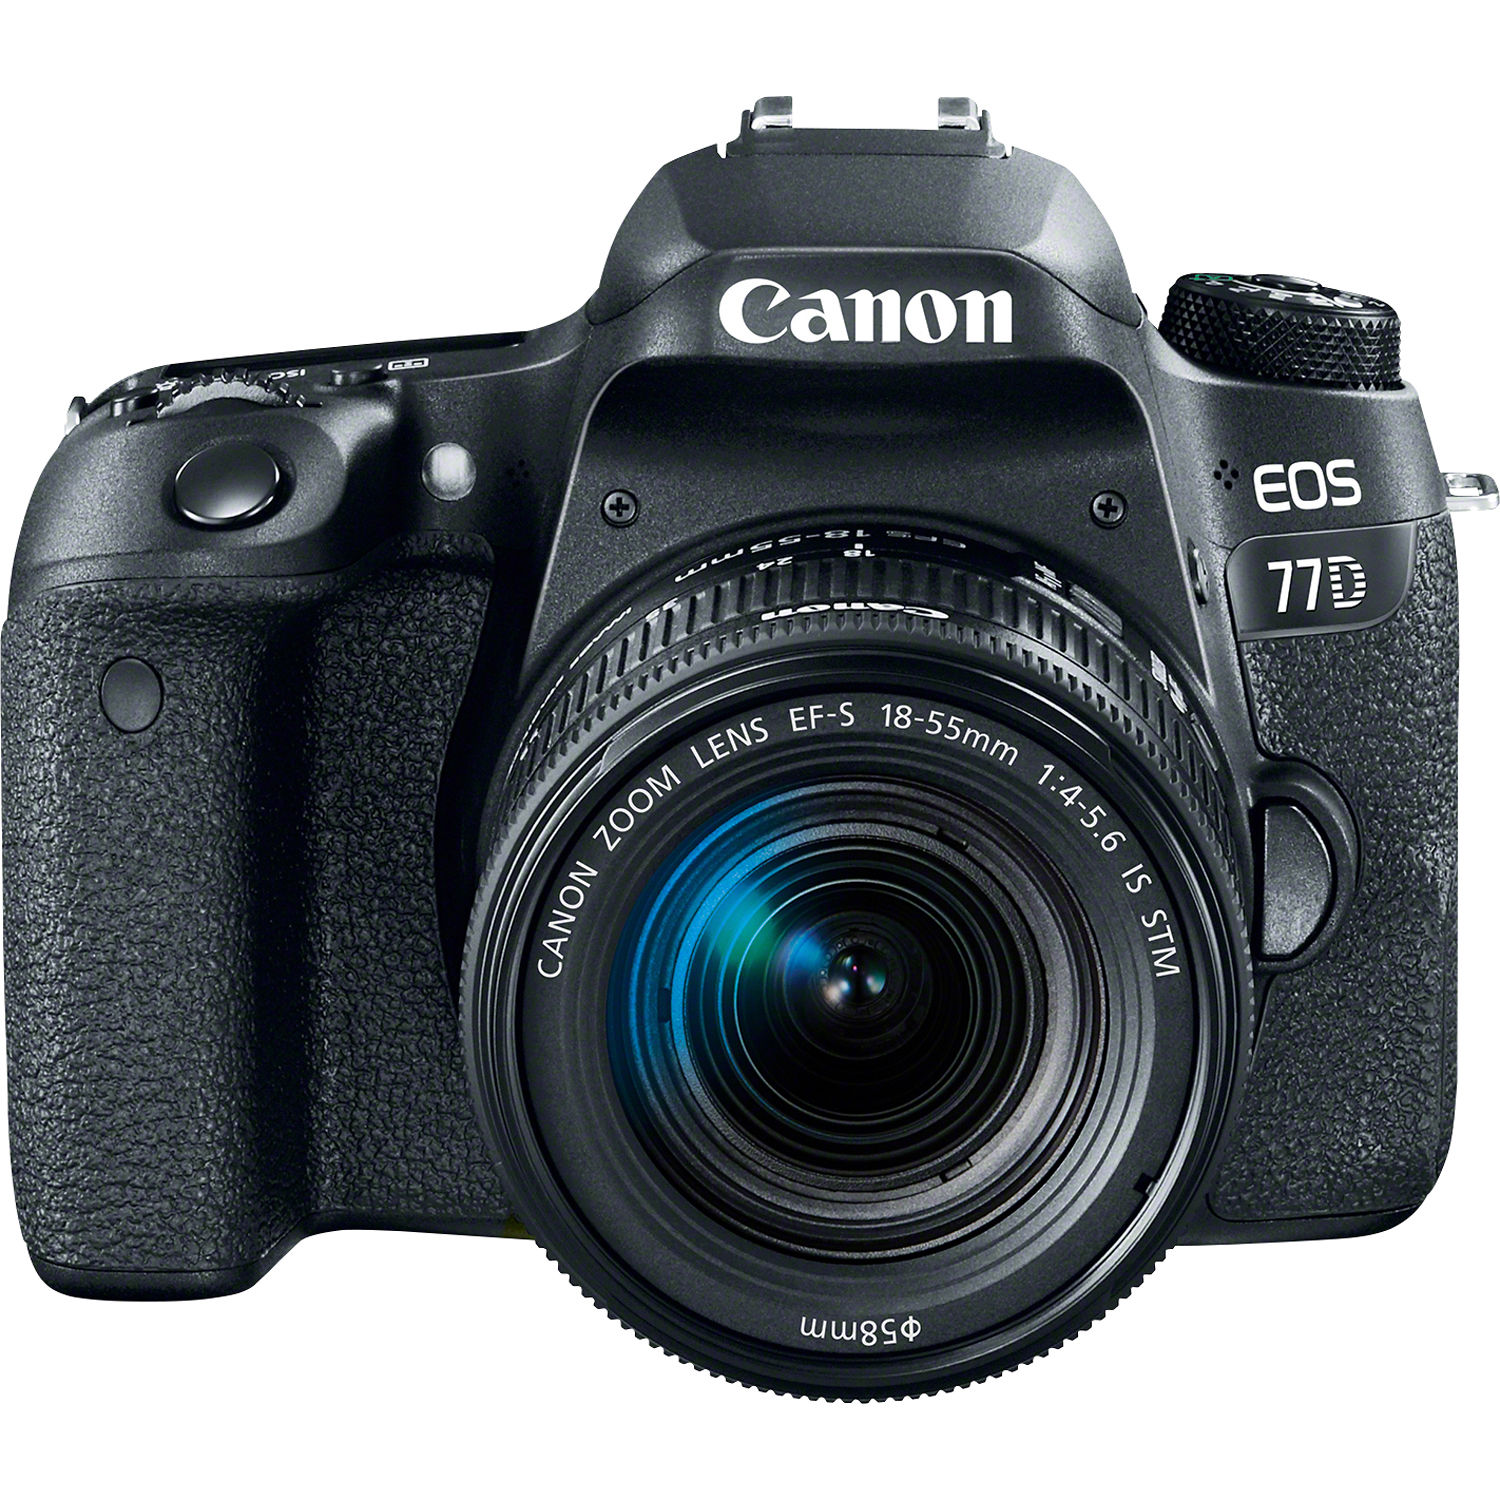camera: (3, 113, 1451, 1397)
